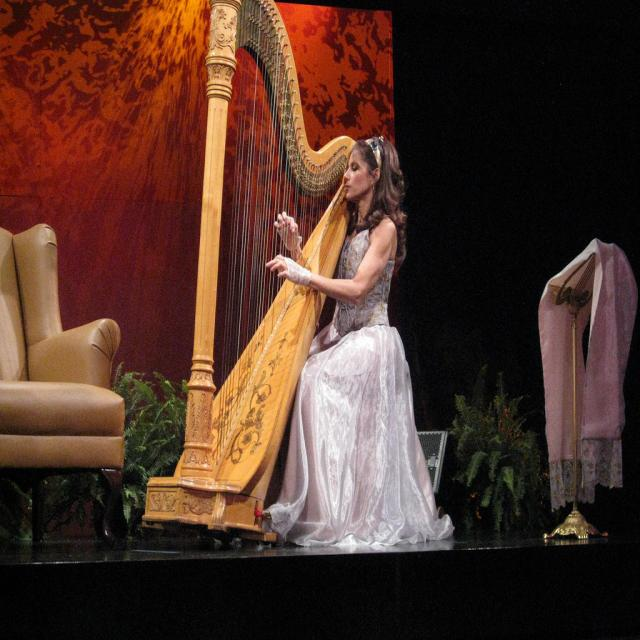harp: (141, 0, 362, 548)
